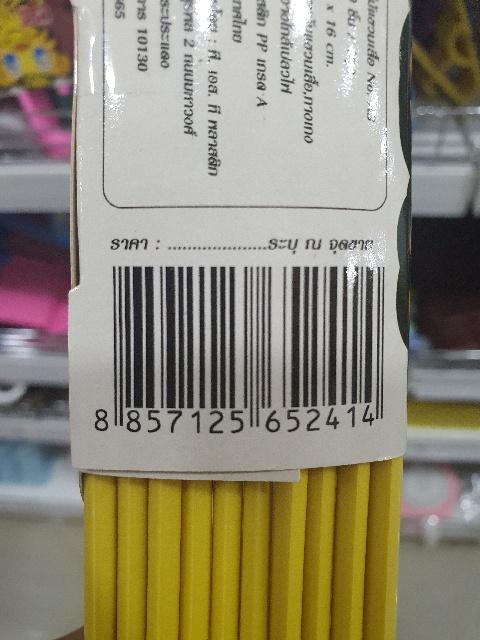Barcode: (85, 258, 395, 440)
